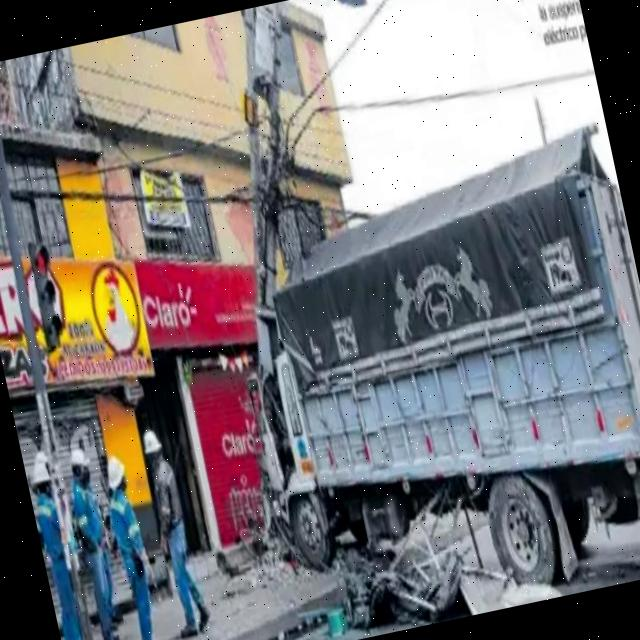Broken Pole: (243, 0, 328, 374)
